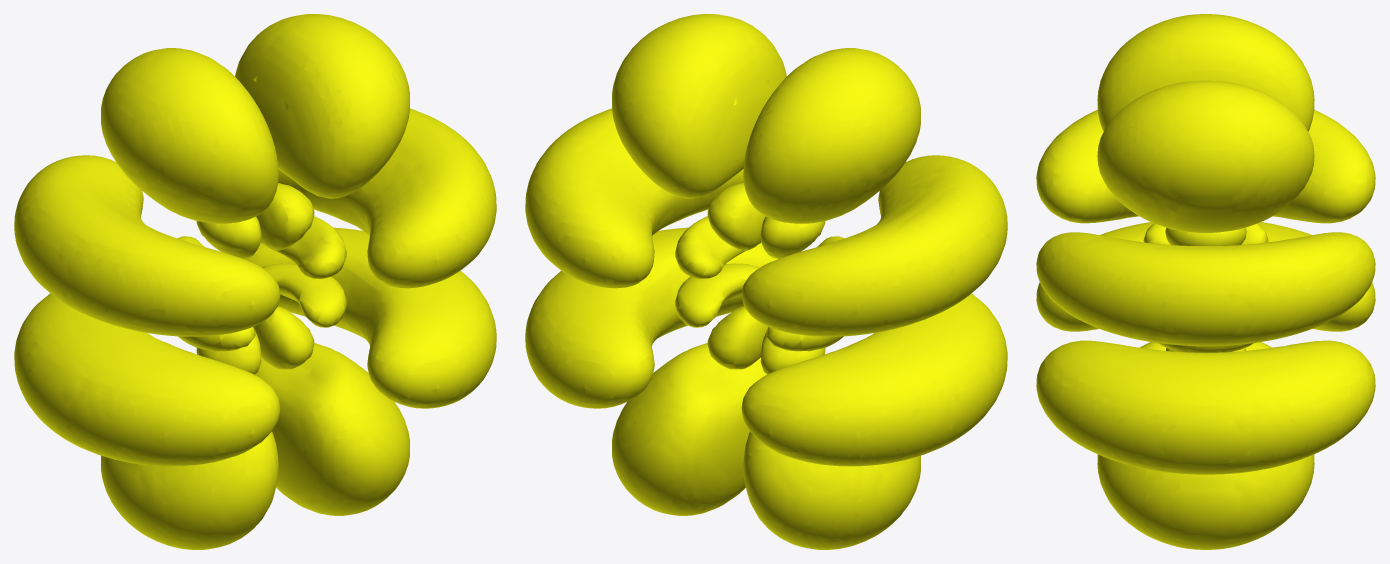
The model's file is orb_n=6_ l=4 _m=1.fbx.
3 views of the same model, side by side, from view 1: azimuth 30°, elevation 25°; view 2: azimuth 150°, elevation 25°; view 3: azimuth 270°, elevation 25° (orthographic). The views are drawn at different scales.
Parts seen in each view (by area): view 1: orb_n=6_ l=4 _m=1; view 2: orb_n=6_ l=4 _m=1; view 3: orb_n=6_ l=4 _m=1.
Part boxes in pixels (x1,y1,x2,y2): orb_n=6_ l=4 _m=1: (14,14,496,549); orb_n=6_ l=4 _m=1: (525,14,1007,549); orb_n=6_ l=4 _m=1: (1036,14,1375,549).
Size of the model in its own units: 13349 by 14263 by 9602.
